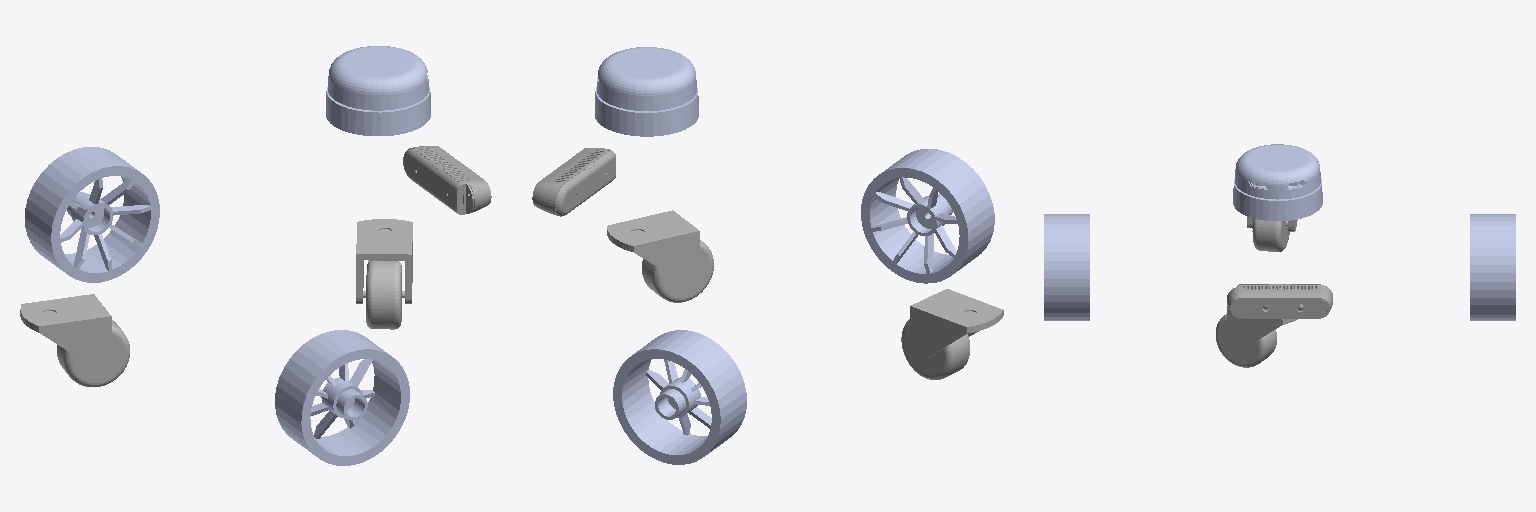
robot.urdf — AGV:
<?xml version="1.0" encoding="utf-8"?>
<!-- This URDF was automatically created by SolidWorks to URDF Exporter! Originally created by [author] ([email redacted]) 
     Commit Version: 1.6.0-1-g15f4949  Build Version: 1.6.7594.29634
     For more information, please see http://wiki.ros.org/sw_urdf_exporter -->
<robot name="AGV"> 

  <link name="base_footprint"/>

  <joint name="base_joint" type="fixed">
    <parent link="base_footprint"/>
    <child link="base_link"/>
    <origin xyz="0.0 0.0 0.0707" rpy="0 0 0"/>
  </joint>


  <link
    name="base_link">
    <inertial>
      <origin
        xyz="0.00233333226458639 7.58157511589364E-05 -0.00568830564416773"
        rpy="0 0 0" />
      <mass
        value="3.83244977936653" />
      <inertia
        ixx="0.0376715877512905"
        ixy="-1.84638335648326E-07"
        ixz="1.52675557200285E-08"
        iyy="0.0361042682027569"
        iyz="-7.35916671700173E-07"
        izz="0.073561130457198" />
    </inertial>

    <visual>
      <origin
        xyz="0 0 0"
        rpy="0 0 0" />
      <geometry>
        <mesh
          filename="package://robot_description/meshes/base_link.STL" />
      </geometry>
      <material
        name="">
        <color
          rgba="0.792156862745098 0.819607843137255 0.933333333333333 1" />
      </material>
    </visual>

    <collision>
      <origin
        xyz="0 0 0"
        rpy="0 0 0" />
      <geometry>
        <mesh
          filename="package://robot_description/meshes/base_link.STL" />
      </geometry>
    </collision>
  </link>


  <link
    name="wheel_left_link">
    <inertial>
      <origin
        xyz="-3.99818811836269E-08 0.385619590514504 -1.18655838099446E-07"
        rpy="0 0 0" />
      <mass
        value="0.0496616978661665" />
      <inertia
        ixx="2.03382881443979E-05"
        ixy="-2.23197649737191E-11"
        ixz="5.49796094612281E-11"
        iyy="3.5078603779392E-05"
        iyz="3.55422343426354E-11"
        izz="2.03381249786204E-05" />
    </inertial>

    <visual>
      <origin
        xyz="0 0 0"
        rpy="0 0 0" />
      <geometry>
        <mesh
          filename="package://robot_description/meshes/left_link.STL" />
      </geometry>
      <material
        name="">
        <color
          rgba="0.792156862745098 0.819607843137255 0.933333333333333 1" />
      </material>
    </visual>

    <collision>
      <origin
        xyz="0 0 0"
        rpy="0 0 0" />
      <geometry>
        <mesh
          filename="package://robot_description/meshes/left_link.STL" />
      </geometry>
    </collision>
  </link>


  <joint
    name="wheel_left_joint"
    type="continuous">
    <origin
      xyz="0 -0.186 -0.0387"
      rpy="0 0 0" />
    <parent
      link="base_link" />
    <child
      link="wheel_left_link" />
    <axis
      xyz="0 1 0" />
  </joint>


  <link
    name="wheel_right_link">
    <inertial>
      <origin
        xyz="-1.23757694347444E-07 -0.385619590514504 1.90208277670023E-08"
        rpy="0 0 0" />
      <mass
        value="0.0496616978661664" />
      <inertia
        ixx="2.03382043208665E-05"
        ixy="-2.13091183699482E-11"
        ixz="9.83539766055479E-11"
        iyy="3.5078603779392E-05"
        iyz="3.61572095755973E-11"
        izz="2.03382088021518E-05" />
    </inertial>

    <visual>
      <origin
        xyz="0 0 0"
        rpy="0 0 0" />
      <geometry>
        <mesh
          filename="package://robot_description/meshes/right_link.STL" />
      </geometry>
      <material
        name="">
        <color
          rgba="0.792156862745098 0.819607843137255 0.933333333333333 1" />
      </material>
    </visual>

    <collision>
      <origin
        xyz="0 0 0"
        rpy="0 0 0" />
      <geometry>
        <mesh
          filename="package://robot_description/meshes/right_link.STL" />
      </geometry>
    </collision>
  </link>


  <joint
    name="wheel_right_joint"
    type="continuous">
    <origin
      xyz="0 0.186 -0.0387"
      rpy="0 0 0" />
    <parent
      link="base_link" />
    <child
      link="wheel_right_link" />
    <axis
      xyz="0 1 0" />
  </joint>


  <link
    name="imu_link">
    <inertial>
      <origin
        xyz="-0.0127336352471249 0.00336693385457607 -2.33042901467487E-05"
        rpy="0 0 0" />
      <mass
        value="3.64288391721299E-08" />
      <inertia
        ixx="2.33944451318896E-11"
        ixy="2.12048018077367E-13"
        ixz="1.01671767574047E-14"
        iyy="3.49874014962155E-12"
        iyz="1.74566413778399E-15"
        izz="2.35952703935789E-11" />
    </inertial>
    <visual>
      <origin
        xyz="0 0 0"
        rpy="0 0 0" />
      <geometry>
        <mesh
          filename="package://robot_description/meshes/imu_link.STL" />
      </geometry>
      <material
        name="">
        <color
          rgba="0.701960784313725 0.701960784313725 0.701960784313725 1" />
      </material>
    </visual>
    <collision>
      <origin
        xyz="0 0 0"
        rpy="0 0 0" />
      <geometry>
        <mesh
          filename="package://robot_description/meshes/imu_link.STL" />
      </geometry>
    </collision>
  </link>


  <joint
    name="imu_joint"
    type="fixed">
    <origin
      xyz="0.20152 -0.0019616 0.0175"
      rpy="0 0 0" />
    <parent
      link="base_link" />
    <child
      link="imu_link" />
    <axis
      xyz="0 0 0" />
  </joint>


  <link
    name="base_scan">
    <inertial>
      <origin
        xyz="-0.00012848195251286 7.88999597557336E-09 0.0194599739289367"
        rpy="0 0 0" />
      <mass
        value="0.166060934057212" />
      <inertia
        ixx="7.69218590206876E-05"
        ixy="-3.9607080925207E-12"
        ixz="2.33735444912028E-07"
        iyy="7.6439713089401E-05"
        iyz="3.85659651278066E-12"
        izz="0.000108595171347802" />
    </inertial>

    <visual>
      <origin
        xyz="0 0 0"
        rpy="0 0 0" />
      <geometry>
        <mesh
          filename="package://robot_description/meshes/lidar_link.STL" />
      </geometry>
      <material
        name="">
        <color
          rgba="0.792156862745098 0.819607843137255 0.933333333333333 1" />
      </material>
    </visual>

    <collision>
      <origin
        xyz="0 0 0"
        rpy="0 0 0" />
      <geometry>
        <mesh
          filename="package://robot_description/meshes/lidar_link.STL" />
      </geometry>
    </collision>
  </link>


  <joint
    name="scan_joint"
    type="fixed">
    <origin
      xyz="0.132 -0.0017476 0.083"
      rpy="0 0 0" />
    <parent
      link="base_link" />
    <child
      link="base_scan" />
    <axis
      xyz="0 0 0" />
  </joint>


  <link
    name="front_rotate_link">
    <inertial>
      <origin
        xyz="-0.0164954514095244 -8.32667268468867E-17 -0.0127446770115047"
        rpy="0 0 0" />
      <mass
        value="0.023917826288437" />
      <inertia
        ixx="8.2007131270127E-06"
        ixy="0"
        ixz="-1.86482418604573E-06"
        iyy="9.0041305189012E-06"
        iyz="-4.49597492003343E-22"
        izz="1.11714136137616E-05" />
    </inertial>

    <visual>
      <origin
        xyz="0 0 0"
        rpy="0 0 0" />
      <geometry>
        <mesh
          filename="package://robot_description/meshes/front_rotate.STL" />
      </geometry>
      <material
        name="">
        <color
          rgba="0.749019607843137 0.749019607843137 0.749019607843137 1" />
      </material>
    </visual>
    
    <collision>
      <origin
        xyz="0 0 0"
        rpy="0 0 0" />
      <geometry>
        <mesh
          filename="package://robot_description/meshes/front_rotate.STL" />
      </geometry>
    </collision>
  </link>


  <joint
    name="front_rotate_joint"
    type="continuous">
    <origin
      xyz="0.1385 0 -0.00985"
      rpy="0 0 1.0273" />
    <parent
      link="base_link" />
    <child
      link="front_rotate_link" />
    <axis
      xyz="0 0 1" />
  </joint>


  <link
    name="front_wheel_link">
    <inertial>
      <origin
        xyz="-1.80411241501588E-16 -1.11022302462516E-16 1.38777878078145E-17"
        rpy="0 0 0" />
      <mass
        value="0.0469863288657831" />
      <inertia
        ixx="9.52959905284745E-06"
        ixy="-4.2351647362715E-21"
        ixz="-1.96470150119616E-21"
        iyy="1.44156278093498E-05"
        iyz="-1.55998282963887E-21"
        izz="9.52959905284745E-06" />
    </inertial>

    <visual>
      <origin
        xyz="0 0 0"
        rpy="0 0 0" />
      <geometry>
        <mesh
          filename="package://robot_description/meshes/front_wheel.STL" />
      </geometry>
      <material
        name="">
        <color
          rgba="0.749019607843137 0.749019607843137 0.749019607843137 1" />
      </material>
    </visual>

    <collision>
      <origin
        xyz="0 0 0"
        rpy="0 0 0" />
      <geometry>
        <mesh
          filename="package://robot_description/meshes/front_wheel.STL" />
      </geometry>
    </collision>
  </link>


  <joint
    name="front_wheel_joint"
    type="continuous">
    <origin
      xyz="-0.033 0 -0.03635"
      rpy="0 0 0" />
    <parent
      link="front_rotate_link" />
    <child
      link="front_wheel_link" />
    <axis
      xyz="0 -1 0" />
  </joint>
  <link
    name="back_rotate_link">
    <inertial>
      <origin
        xyz="0.0164954514095245 0 0.0127446770115048"
        rpy="0 0 0" />
      <mass
        value="0.023917826288437" />
      <inertia
        ixx="8.20071312701268E-06"
        ixy="1.27054942088145E-21"
        ixz="-1.86482418604572E-06"
        iyy="9.00413051890118E-06"
        iyz="-1.28772844257192E-21"
        izz="1.11714136137616E-05" />
    </inertial>

    <visual>
      <origin
        xyz="0 0 0"
        rpy="0 0 0" />
      <geometry>
        <mesh
          filename="package://robot_description/meshes/back_rotate.STL" />
      </geometry>
      <material
        name="">
        <color
          rgba="0.749019607843137 0.749019607843137 0.749019607843137 1" />
      </material>
    </visual>

    <collision>
      <origin
        xyz="0 0 0"
        rpy="0 0 0" />
      <geometry>
        <mesh
          filename="package://robot_description/meshes/back_rotate.STL" />
      </geometry>
    </collision>
  </link>


  <joint
    name="back_rotate_joint"
    type="continuous">
    <origin
      xyz="-0.1385 0 -0.00985"
      rpy="-3.1416 0 -0.20493" />
    <parent
      link="base_link" />
    <child
      link="back_rotate_link" />
    <axis
      xyz="0 0 -1" />
  </joint>


  <link
    name="back_wheel_link">
    <inertial>
      <origin
        xyz="5.55111512312578E-17 -1.38777878078145E-17 1.66533453693773E-16"
        rpy="0 0 0" />
      <mass
        value="0.0469863288657831" />
      <inertia
        ixx="9.52959905284745E-06"
        ixy="-1.05879118406788E-22"
        ixz="-1.8993002353192E-21"
        iyy="1.44156278093498E-05"
        iyz="4.98447024365527E-22"
        izz="9.52959905284745E-06" />
    </inertial>

    <visual>
      <origin
        xyz="0 0 0"
        rpy="0 0 0" />
      <geometry>
        <mesh
          filename="package://robot_description/meshes/back_wheel.STL" />
      </geometry>
      <material
        name="">
        <color
          rgba="0.749019607843137 0.749019607843137 0.749019607843137 1" />
      </material>
    </visual>

    <collision>
      <origin
        xyz="0 0 0"
        rpy="0 0 0" />
      <geometry>
        <mesh
          filename="package://robot_description/meshes/back_wheel.STL" />
      </geometry>
    </collision>
  </link>


  <joint
    name="back_wheel_joint"
    type="continuous">
    <origin
      xyz="0.033 0 0.03635"
      rpy="0 0 0" />
    <parent
      link="back_rotate_link" />
    <child
      link="back_wheel_link" />
    <axis
      xyz="0 -1 0" />
  </joint>

  <!--=========================gazebo reference/plugin=======================-->
  <gazebo reference="base_link">
    <material>Gazebo/DarkGrey</material>
  </gazebo>

  <gazebo reference="wheel_left_link">
    <mu1>0.1</mu1>
    <mu2>0.1</mu2>
    <kp>500000.0</kp>
    <kd>10.0</kd>
    <minDepth>0.001</minDepth>
    <maxVel>0.22</maxVel>
    <fdir1>1 0 0</fdir1>
  </gazebo>

  <gazebo reference="wheel_right_link">
    <mu1>0.1</mu1>
    <mu2>0.1</mu2>
    <kp>500000.0</kp>
    <kd>10.0</kd>
    <minDepth>0.001</minDepth>
    <maxVel>0.22</maxVel>
    <fdir1>1 0 0</fdir1>
  </gazebo>

  <gazebo reference="front_rotate_link">
    <mu1>0.1</mu1>
    <mu2>0.1</mu2>
    <kp>500000.0</kp>
    <kd>10.0</kd>
    <minDepth>0.001</minDepth>
    <maxVel>10</maxVel>
    <fdir1>1 0 0</fdir1>
  </gazebo>

  <gazebo reference="back_rotate_link">
    <mu1>0.1</mu1>
    <mu2>0.1</mu2>
    <kp>500000.0</kp>
    <kd>10.0</kd>
    <minDepth>0.001</minDepth>
    <maxVel>10</maxVel>
    <fdir1>1 0 0</fdir1>
  </gazebo>

  <gazebo reference="front_wheel_link">
    <mu1>0.1</mu1>
    <mu2>0.1</mu2>
    <kp>500000.0</kp>
    <kd>10.0</kd>
    <minDepth>0.001</minDepth>
    <maxVel>0.22</maxVel>
    <fdir1>1 0 0</fdir1>
  </gazebo>

  <gazebo reference="back_wheel_link">
    <mu1>0.1</mu1>
    <mu2>0.1</mu2>
    <kp>500000.0</kp>
    <kd>10.0</kd>
    <minDepth>0.001</minDepth>
    <maxVel>0.22</maxVel>
    <fdir1>1 0 0</fdir1>
  </gazebo>

  <gazebo>
    <plugin name="AGV_controller" filename="libgazebo_ros_diff_drive.so">
      <commandTopic>cmd_vel</commandTopic>
      <odometryTopic>odom</odometryTopic>
      <odometryFrame>odom</odometryFrame>
      <odometrySource>world</odometrySource>
      <publishOdomTF>true</publishOdomTF>
      <robotBaseFrame>base_footprint</robotBaseFrame>
      <publishWheelTF>false</publishWheelTF>
      <publishTf>true</publishTf>
      <publishWheelJointState>true</publishWheelJointState>
      <legacyMode>false</legacyMode>
      <updateRate>30</updateRate>
      <leftJoint>wheel_left_joint</leftJoint>
      <rightJoint>wheel_right_joint</rightJoint>
      <wheelSeparation>0.372</wheelSeparation>
      <wheelDiameter>0.064</wheelDiameter>
      <wheelAcceleration>1</wheelAcceleration>
      <wheelTorque>10</wheelTorque>
      <rosDebugLevel>na</rosDebugLevel>
    </plugin>
  </gazebo>

   <gazebo reference="base_scan">
    <sensor type="ray" name="rplidarA2_sensor">
      <pose>0 0 0 0 0 0</pose>
      <visualize>false</visualize>
      <update_rate>40</update_rate>
      <ray>
        <scan>
          <horizontal>
            <samples>720</samples>
            <resolution>1</resolution>
            <min_angle>-3.14159265</min_angle>
            <max_angle>3.14159265</max_angle>
          </horizontal>
        </scan>
        <range>
          <min>0.2</min>
          <max>12.0</max>
          <resolution>0.01</resolution>
        </range>
        <noise>
          <type>gaussian</type>
          <mean>0.0</mean>
          <stddev>0.01</stddev>
        </noise>
      </ray>
      <plugin name="gazebo_ros_rplidarA2_controller" filename="libgazebo_ros_laser.so">
        <topicName>scan</topicName>
        <frameName>base_scan</frameName>
      </plugin>
    </sensor>
  </gazebo> 


</robot>

--- Render facts (derived) ---
Views: 3 orthographic renders of the robot side by side, from view 1: azimuth 30°, elevation 25°; view 2: azimuth 150°, elevation 25°; view 3: azimuth 270°, elevation 25°.
Model AGV with 10 links and 9 joints (6 continuous, 3 fixed), rooted at base_footprint, posed every joint at zero.
Visible links, largest first — view 1: wheel_left_link, wheel_right_link, base_scan, back_rotate_link, imu_link, front_rotate_link, front_wheel_link, back_wheel_link; view 2: wheel_left_link, wheel_right_link, base_scan, front_rotate_link, back_rotate_link, imu_link, front_wheel_link, back_wheel_link; view 3: base_scan, wheel_left_link, wheel_right_link, imu_link, front_rotate_link, front_wheel_link, back_wheel_link.
Boxes of the visible links, box(x1,y1,x2,y2) form: wheel_left_link: box(275, 330, 409, 465); wheel_right_link: box(25, 147, 159, 282); base_scan: box(326, 46, 430, 135); back_rotate_link: box(20, 294, 111, 370); imu_link: box(403, 146, 491, 214); front_rotate_link: box(356, 219, 412, 303); front_wheel_link: box(366, 261, 401, 329); back_wheel_link: box(57, 320, 129, 386); wheel_left_link: box(861, 149, 994, 283); wheel_right_link: box(613, 330, 746, 464); base_scan: box(595, 47, 698, 136); front_rotate_link: box(607, 210, 699, 285); back_rotate_link: box(910, 289, 1003, 361); imu_link: box(532, 148, 615, 216); front_wheel_link: box(642, 240, 713, 302); back_wheel_link: box(901, 319, 969, 379); base_scan: box(1233, 144, 1322, 220); wheel_left_link: box(1044, 214, 1089, 320); wheel_right_link: box(1470, 214, 1515, 320); imu_link: box(1227, 284, 1332, 318); front_rotate_link: box(1227, 305, 1297, 352); front_wheel_link: box(1216, 314, 1276, 367); back_wheel_link: box(1252, 218, 1289, 251).
Bounding box of the posed robot: 0.361 × 0.396 × 0.2077 m (x, y, z).
Meshes: 9 distinct files referenced, 8 mesh visuals loaded (8 binary STL); not drawn: 1 (reference not matched to a file when rendering).
